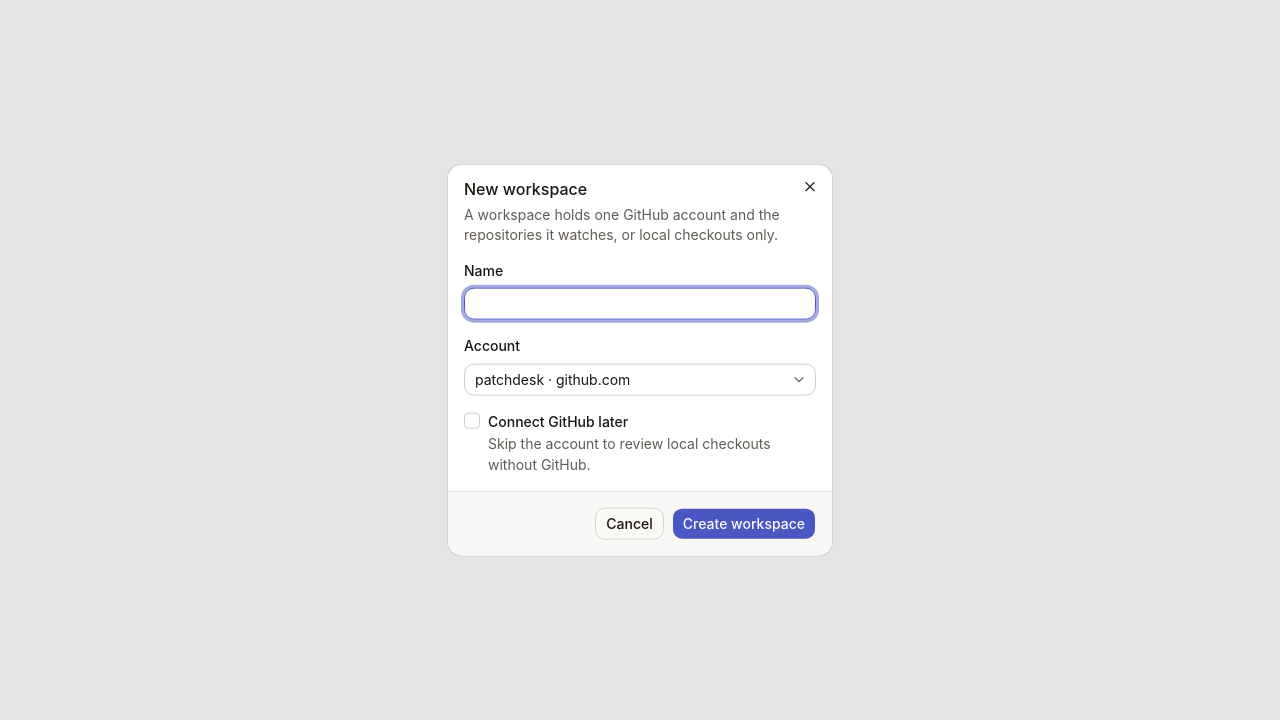
Scenario: New workspace dialog › reports a blank name beside the field without posting
Click the button "Create workspace": click(744, 523) top-left (672, 507), bottom-right (816, 539)
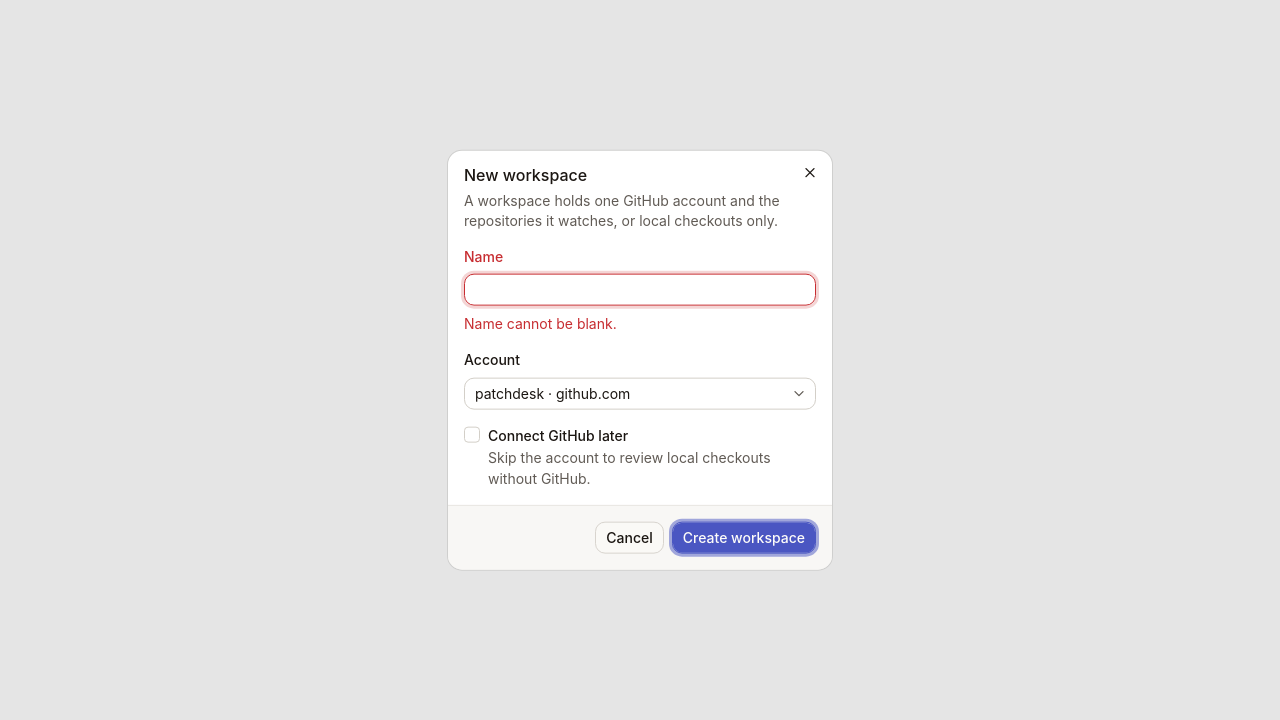
Expected: the message "Name cannot be blank." is shown, top-left (464, 315), bottom-right (617, 332)
